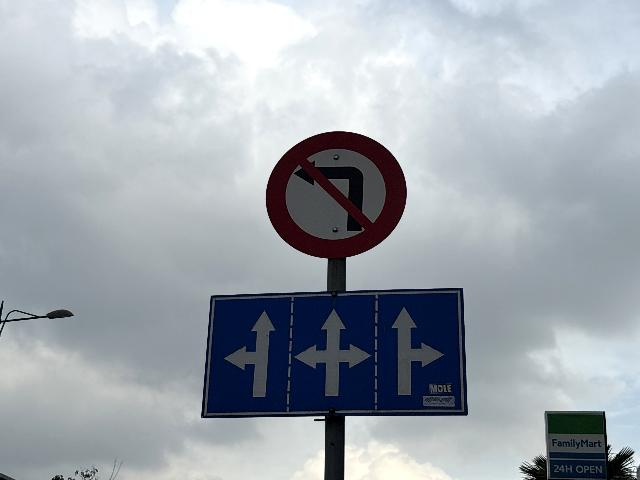cam-re-trai: (267, 131, 408, 261)
